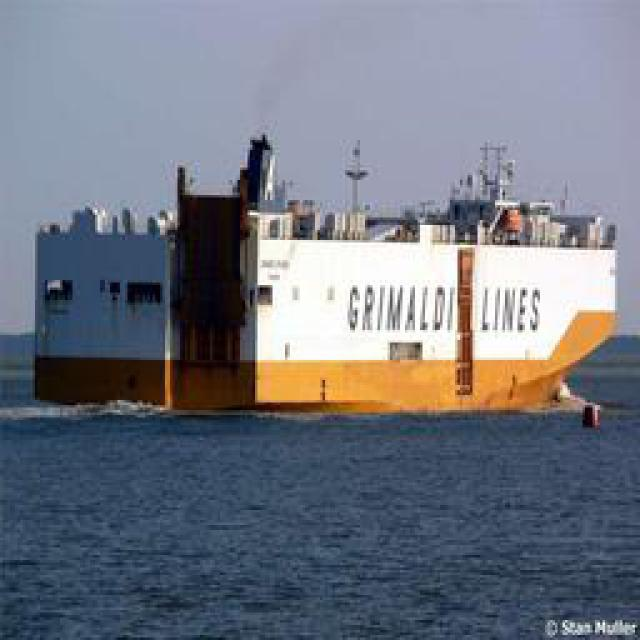Ship: (32, 136, 622, 424)
